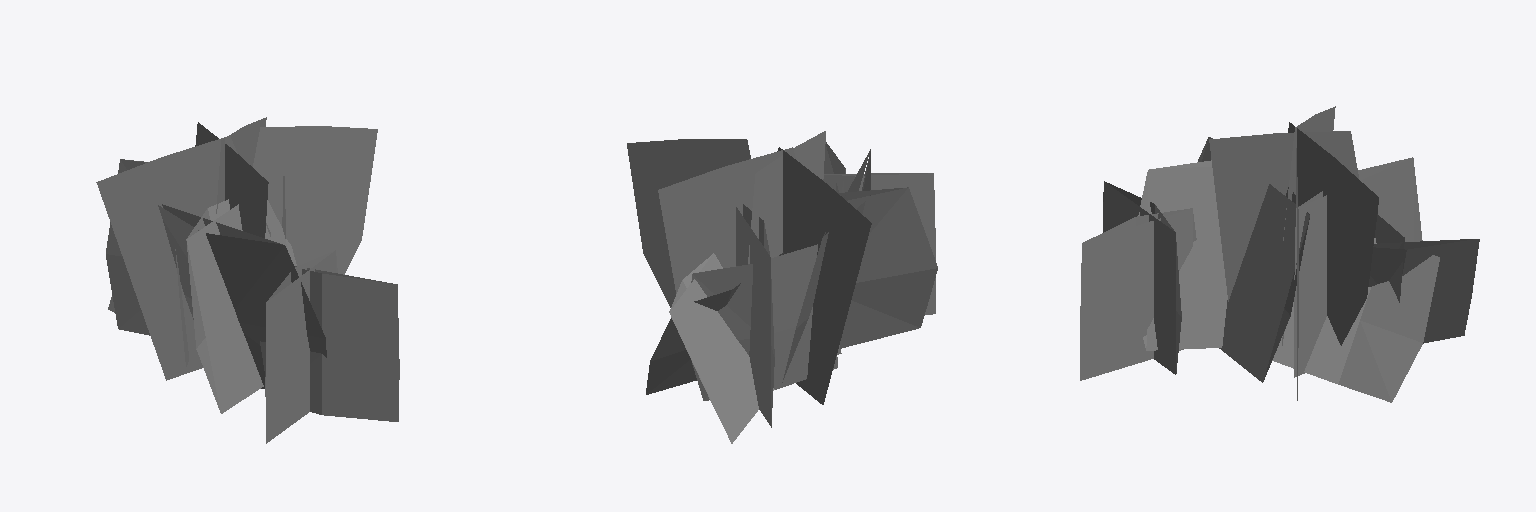
The model's file is Foliage_Tall_Grass_B.obj.
3 renders of one model, left to right at view 1: azimuth 30°, elevation 25°; view 2: azimuth 150°, elevation 25°; view 3: azimuth 270°, elevation 25°, orthographic.
Parts seen in each view (by area): view 1: Foliage_Tall_Grass_B_LOD0, Foliage_Tall_Grass_B_LOD1; view 2: Foliage_Tall_Grass_B_LOD0, Foliage_Tall_Grass_B_LOD1; view 3: Foliage_Tall_Grass_B_LOD1, Foliage_Tall_Grass_B_LOD0.
Boxes of the visible parts, box(x1,y1,x2,y2) form: Foliage_Tall_Grass_B_LOD0: box(103, 118, 399, 421); Foliage_Tall_Grass_B_LOD1: box(96, 117, 392, 443); Foliage_Tall_Grass_B_LOD0: box(627, 132, 937, 439); Foliage_Tall_Grass_B_LOD1: box(663, 131, 927, 443); Foliage_Tall_Grass_B_LOD1: box(1080, 118, 1472, 400); Foliage_Tall_Grass_B_LOD0: box(1080, 106, 1479, 402).
Size of the model in its own units: 140 by 121 by 184.